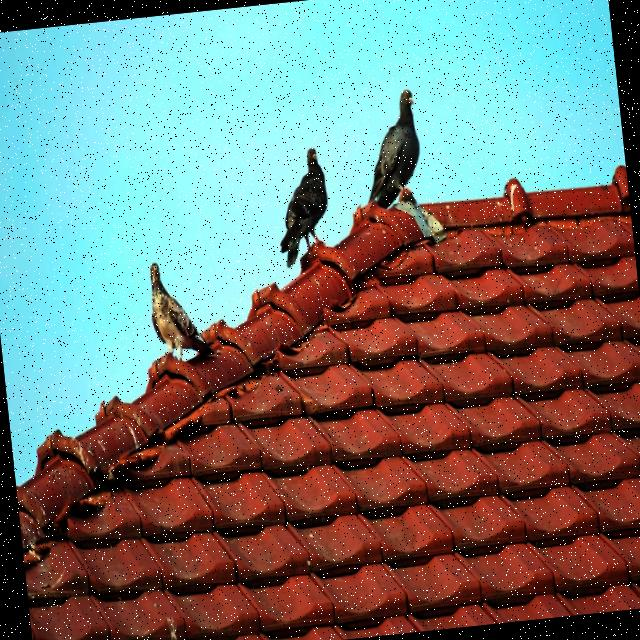bird: (353, 87, 428, 214), (143, 256, 220, 368), (268, 144, 336, 270)
